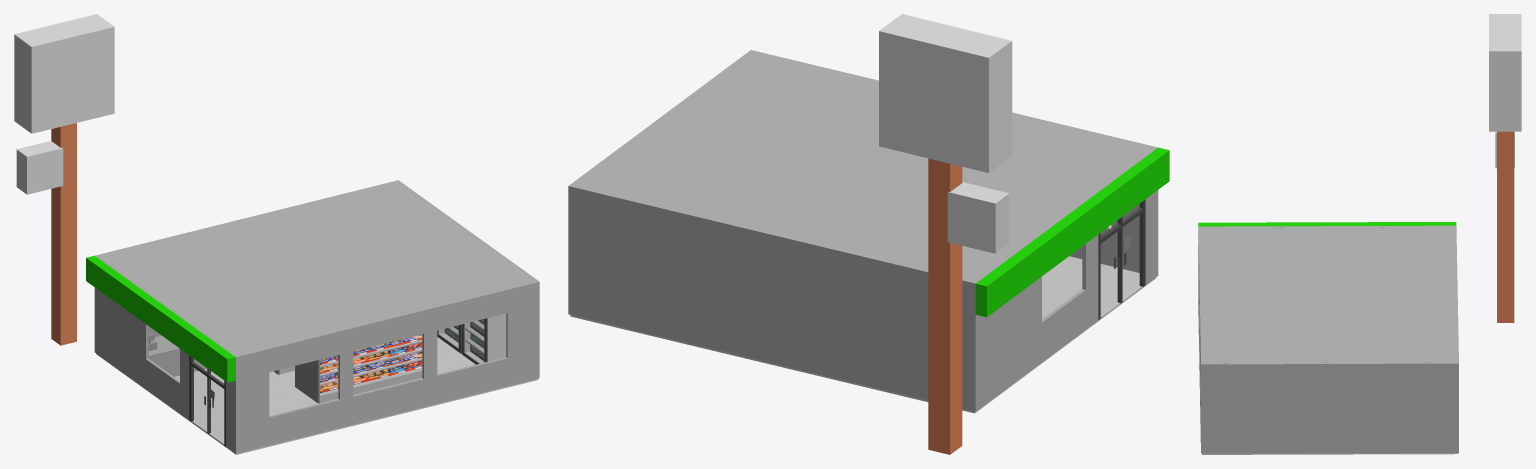
Rendered from convenience_store.glb.
3 views of the same model, side by side, from view 1: azimuth 30°, elevation 25°; view 2: azimuth 150°, elevation 25°; view 3: azimuth 270°, elevation 25° (orthographic). The views are drawn at different scales.
Visible parts, largest first — view 1: ceiling, walls1, kanban, floor2, pCube16_patungan_0.001, polySurface20, body_ref5_0.003, polySurface19, counter, door_frame, pCube10_stash_big_0.001; view 2: walls1, ceiling, kanban, floor2, door_frame; view 3: ceiling, walls1, kanban, floor2.
Boxes of the visible parts, x1=… form: ceiling: x1=99, y1=182, x2=535, y2=355; walls1: x1=86, y1=180, x2=539, y2=453; kanban: x1=14, y1=14, x2=114, y2=345; floor2: x1=96, y1=337, x2=538, y2=454; pCube16_patungan_0.001: x1=320, y1=339, x2=422, y2=403; polySurface20: x1=320, y1=342, x2=422, y2=392; body_ref5_0.003: x1=464, y1=313, x2=506, y2=363; polySurface19: x1=320, y1=334, x2=422, y2=382; counter: x1=148, y1=335, x2=207, y2=376; door_frame: x1=189, y1=355, x2=225, y2=446; pCube10_stash_big_0.001: x1=295, y1=360, x2=319, y2=403; walls1: x1=568, y1=50, x2=1169, y2=411; ceiling: x1=574, y1=52, x2=1152, y2=281; kanban: x1=879, y1=14, x2=1012, y2=454; floor2: x1=570, y1=256, x2=1156, y2=413; door_frame: x1=1098, y1=199, x2=1145, y2=319; ceiling: x1=1200, y1=227, x2=1456, y2=363; walls1: x1=1198, y1=222, x2=1458, y2=453; kanban: x1=1489, y1=14, x2=1521, y2=322; floor2: x1=1202, y1=453, x2=1458, y2=454.
Bounding box in the file's own units: 10.46 × 8.76 × 8.94.
Materials: 29 (9 with a texture image).
